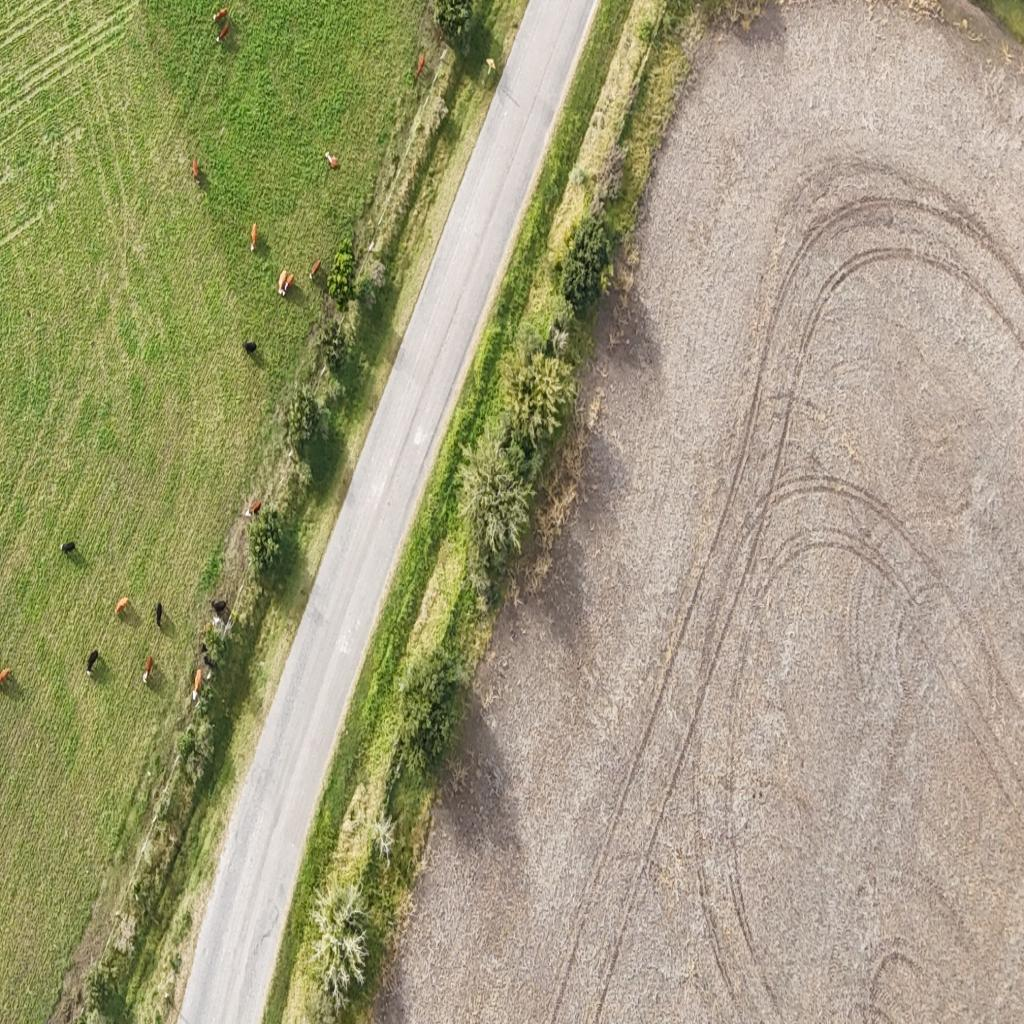cow: (243, 494, 264, 520), (200, 646, 216, 674), (85, 648, 99, 676), (215, 21, 229, 46), (284, 270, 296, 299), (192, 668, 202, 702), (142, 655, 153, 685), (210, 600, 229, 616), (115, 596, 129, 616), (242, 338, 258, 355), (250, 220, 258, 253), (416, 52, 425, 79), (324, 151, 338, 168), (60, 540, 76, 554), (310, 259, 321, 279), (155, 601, 163, 627), (0, 668, 11, 686), (214, 8, 227, 22), (192, 157, 198, 184), (278, 270, 286, 290)
